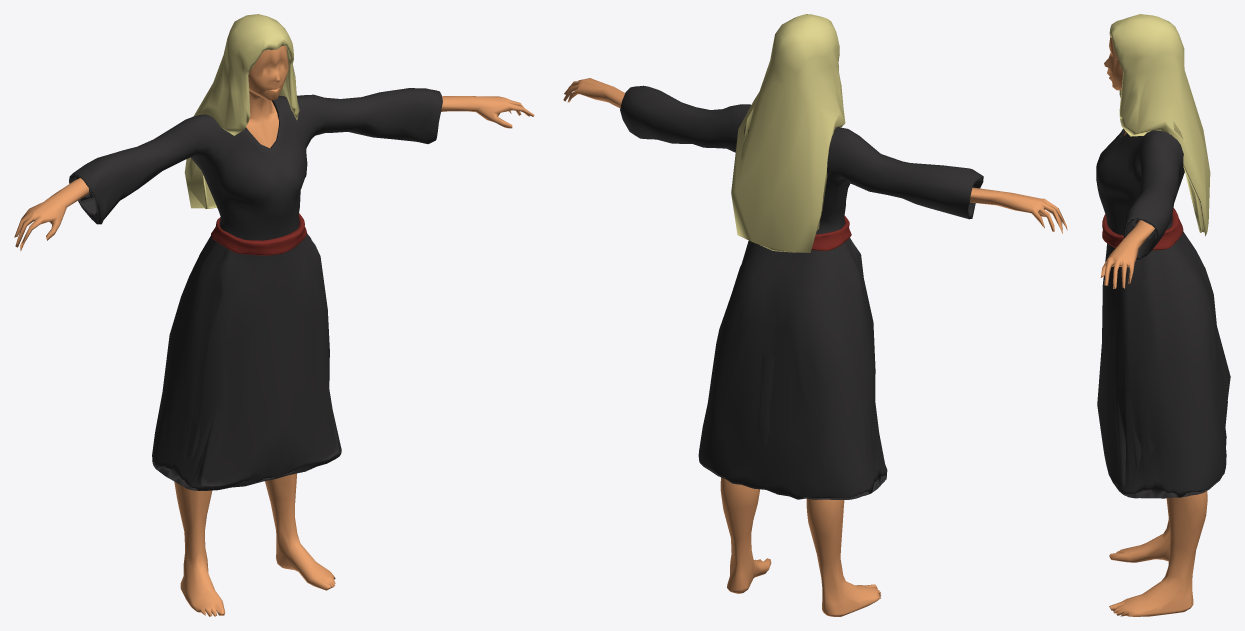
The model's file is Girl_var.2.fbx.
3 views of the same model, side by side, from view 1: azimuth 30°, elevation 25°; view 2: azimuth 150°, elevation 25°; view 3: azimuth 270°, elevation 25° (orthographic).
Parts seen in each view (by area): view 1: Extract17, female_zbrush, Extract11, Extract27; view 2: Extract17, Extract11, female_zbrush, Extract27; view 3: Extract17, Extract11, female_zbrush, Extract27.
Boxes of the visible parts, bbox=[...] form: Extract17: bbox=[69, 88, 442, 490]; female_zbrush: bbox=[14, 46, 534, 616]; Extract11: bbox=[184, 14, 299, 208]; Extract27: bbox=[211, 213, 306, 255]; Extract17: bbox=[620, 85, 983, 499]; Extract11: bbox=[731, 14, 845, 252]; female_zbrush: bbox=[563, 78, 1067, 616]; Extract27: bbox=[811, 216, 851, 250]; Extract17: bbox=[1096, 128, 1230, 498]; Extract11: bbox=[1109, 14, 1210, 236]; female_zbrush: bbox=[1100, 37, 1207, 616]; Extract27: bbox=[1102, 208, 1183, 250].
Size of the model in its own units: 260 by 281 by 60.25.
